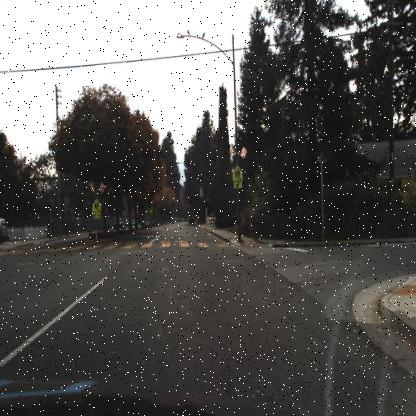car: (114, 219, 124, 230), (123, 219, 131, 228), (130, 220, 136, 227), (189, 217, 194, 225), (141, 220, 146, 225)
